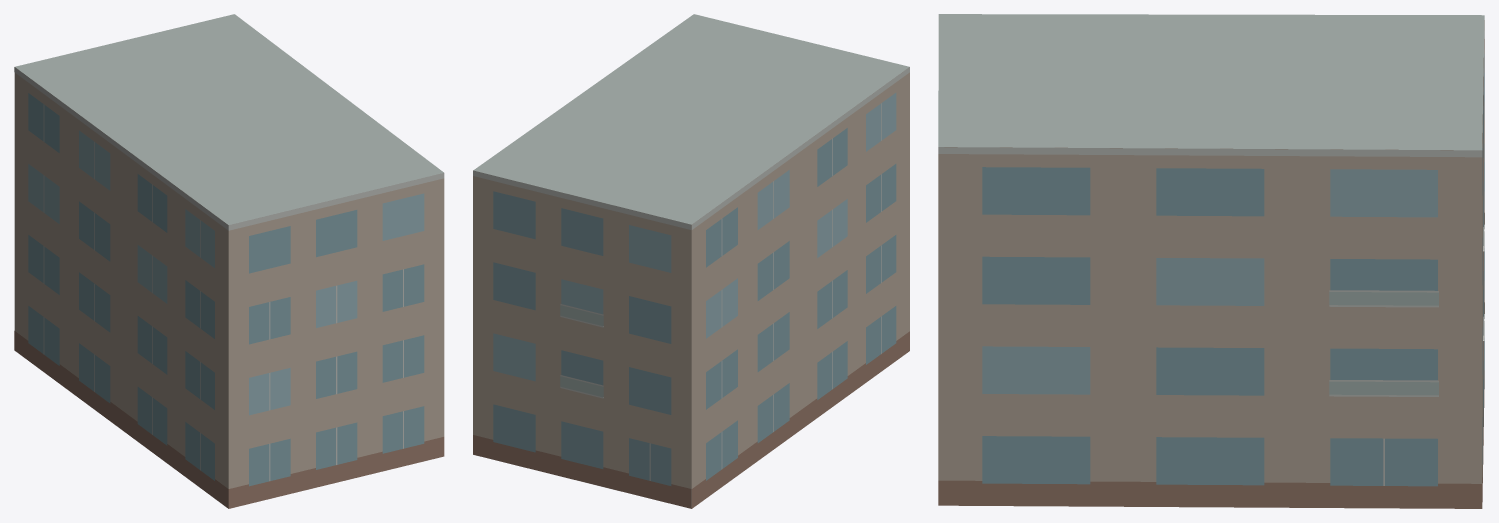
The model's file is survey-upis-32579447.glb.
3 views of the same model, side by side, from view 1: azimuth 30°, elevation 25°; view 2: azimuth 150°, elevation 25°; view 3: azimuth 270°, elevation 25° (orthographic). The views are drawn at different scales.
Parts seen in each view (by area): view 1: survey-upis-32579447.tmp; view 2: survey-upis-32579447.tmp; view 3: survey-upis-32579447.tmp.
Part boxes in pixels (box(x1,y1,x2,y2)): survey-upis-32579447.tmp: box(14, 14, 444, 508); survey-upis-32579447.tmp: box(473, 14, 909, 508); survey-upis-32579447.tmp: box(938, 14, 1484, 508).
Size of the model in its own units: 10.26 by 12.56 by 17.36.
